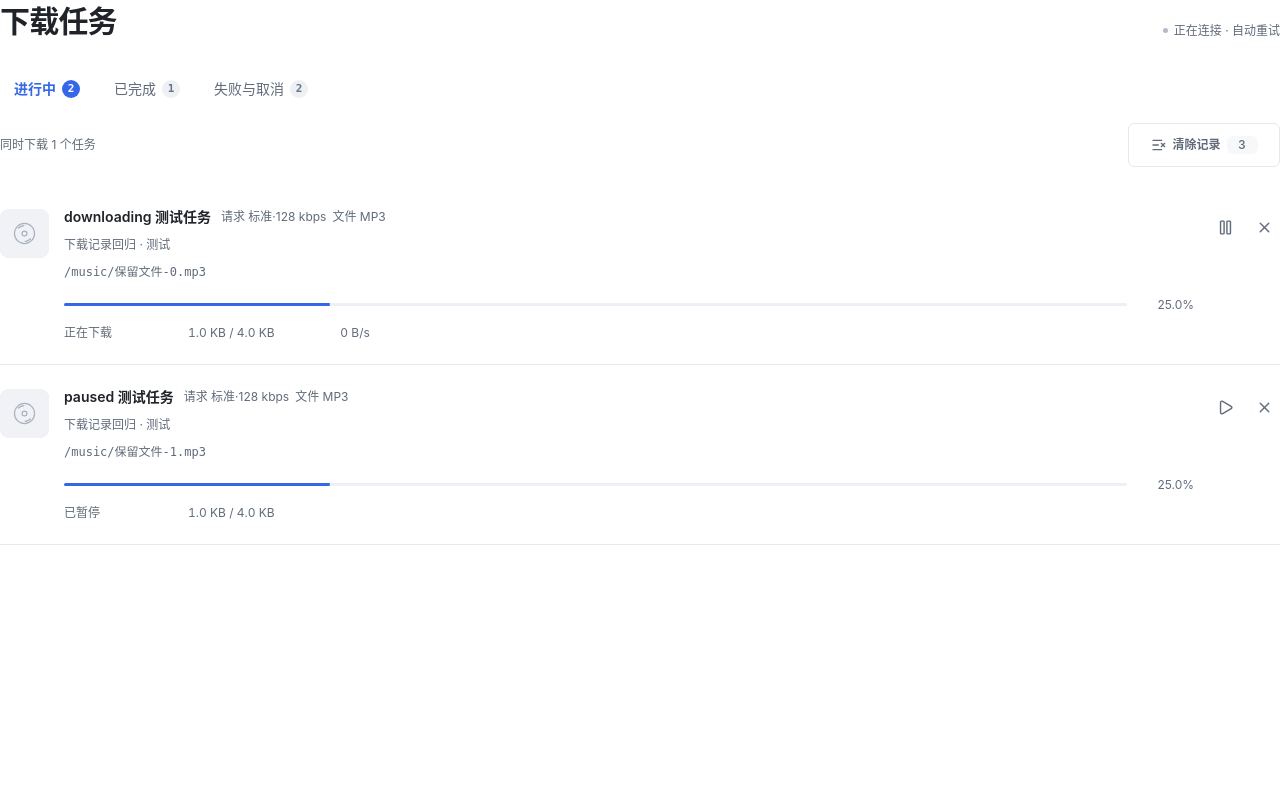
Scenario: 终态被其它客户端清完时不伪造原计数，合法0清除仍报告服务器结果
This screenshot has width=1280, height=800.
Click the button with aria-label "清除记录，共" at (1204, 144), box [1128,122,1279,166]
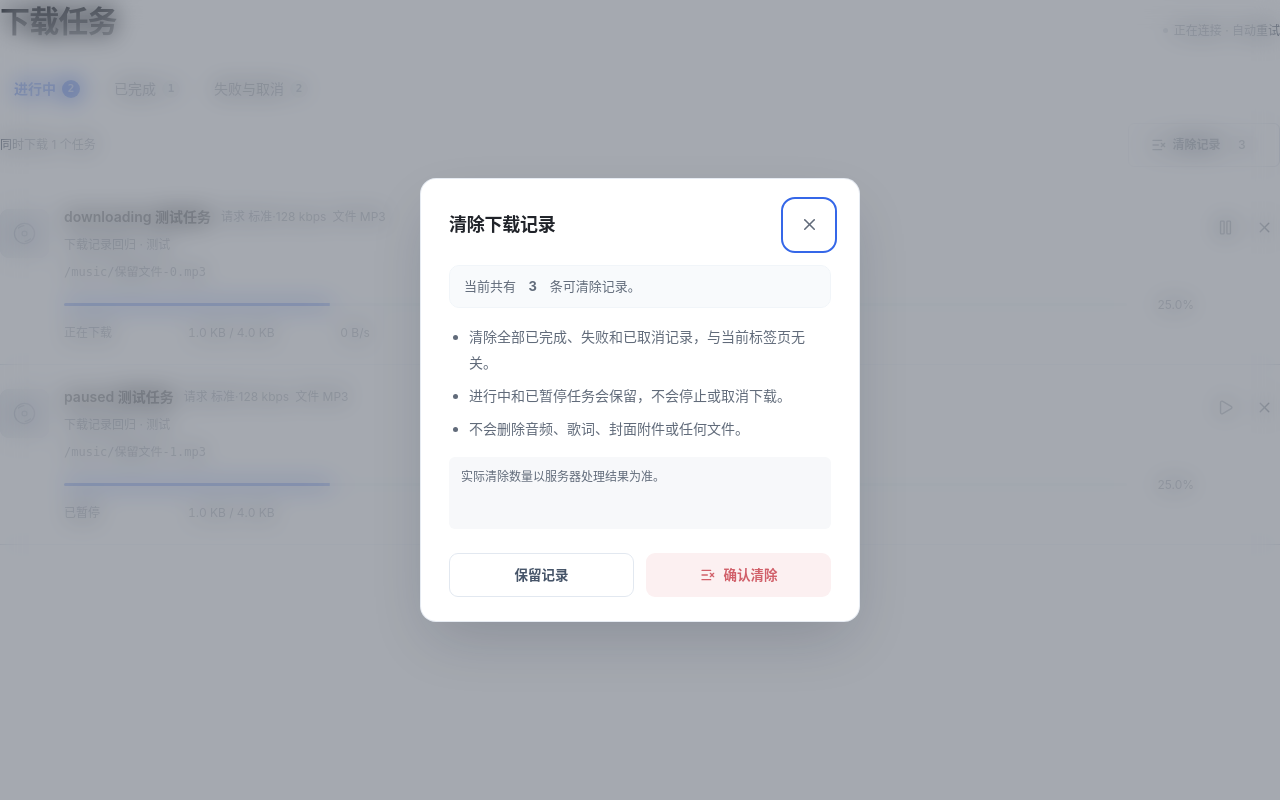
Click the button "确认清除" at (738, 575), box [646,553,831,597]
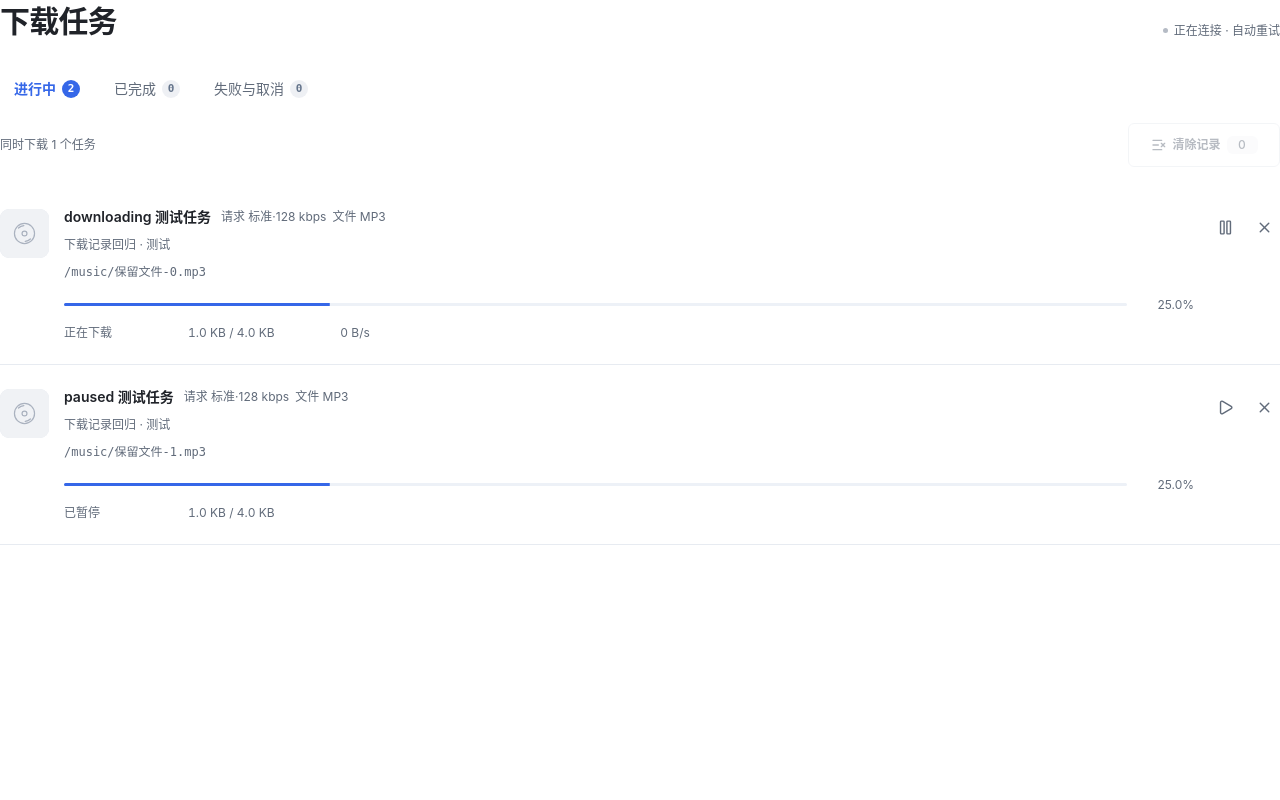
Expected: the dialog is gone
